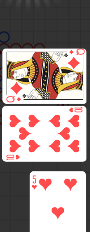10H: (67, 107, 83, 114)
5H: (31, 175, 38, 192)
